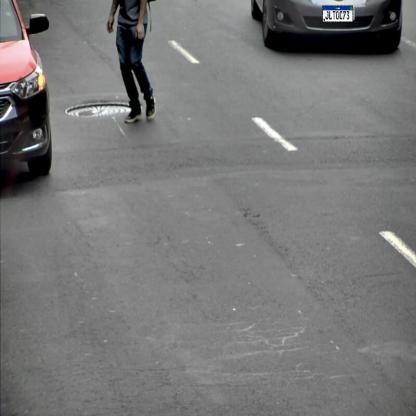PlacaM: (322, 6, 353, 22)
